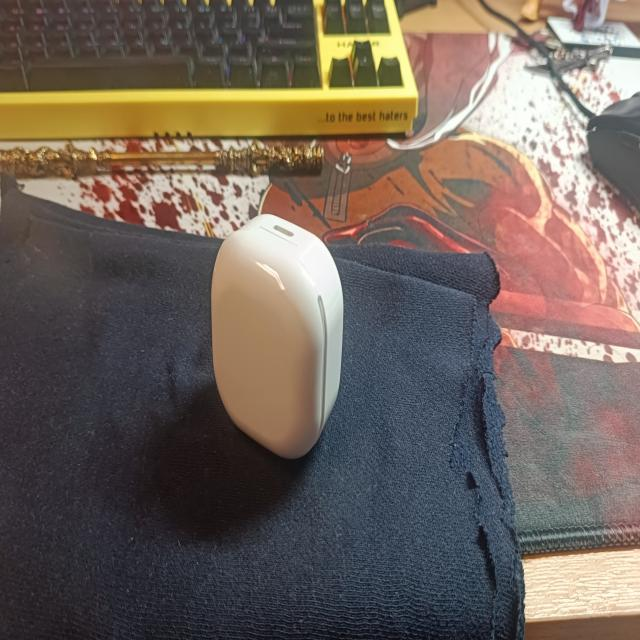headphones: (210, 210, 344, 460)
